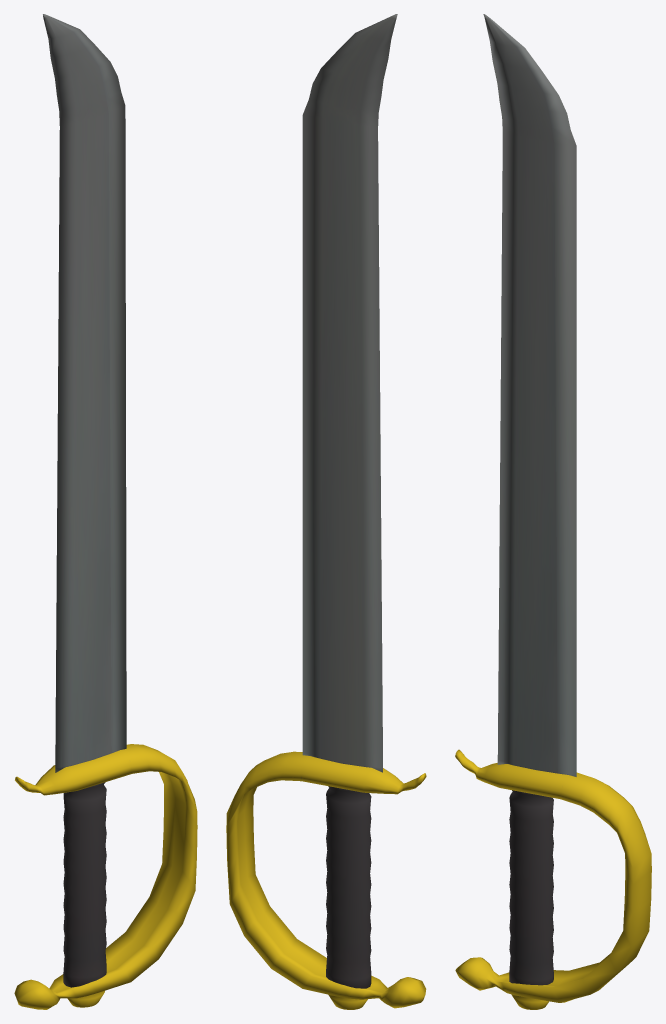
The model's file is merirosvousmiekka_001 (1).fbx.
3 renders of one model, left to right at view 1: azimuth 30°, elevation 25°; view 2: azimuth 150°, elevation 25°; view 3: azimuth 330°, elevation 25°, orthographic.
Parts seen in each view (by area): view 1: Cube, Cube.001, Cube.002; view 2: Cube, Cube.001, Cube.002; view 3: Cube, Cube.001, Cube.002.
Boxes of the visible parts, left/top/right/bottom form: Cube: left=43, top=14, right=126, bottom=772; Cube.001: left=14, top=744, right=197, bottom=1009; Cube.002: left=63, top=782, right=106, bottom=1007; Cube: left=302, top=14, right=397, bottom=772; Cube.001: left=226, top=751, right=426, bottom=1008; Cube.002: left=326, top=786, right=371, bottom=1009; Cube: left=483, top=14, right=576, bottom=776; Cube.001: left=455, top=749, right=651, bottom=1002; Cube.002: left=509, top=790, right=553, bottom=1009.
Size of the model in its own units: 276 by 1428 by 80.52.
